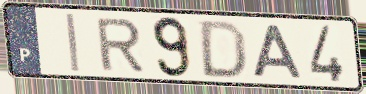4: (308, 24, 346, 84)
9: (149, 15, 194, 80)
A: (249, 23, 305, 81)
D: (199, 19, 249, 81)
I: (63, 11, 82, 74)
R: (94, 16, 147, 73)
